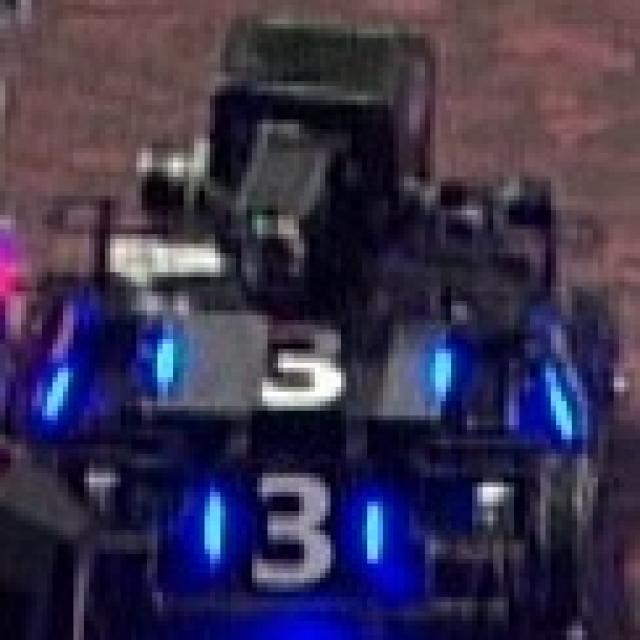B3: (142, 315, 462, 416), (199, 463, 383, 592)
